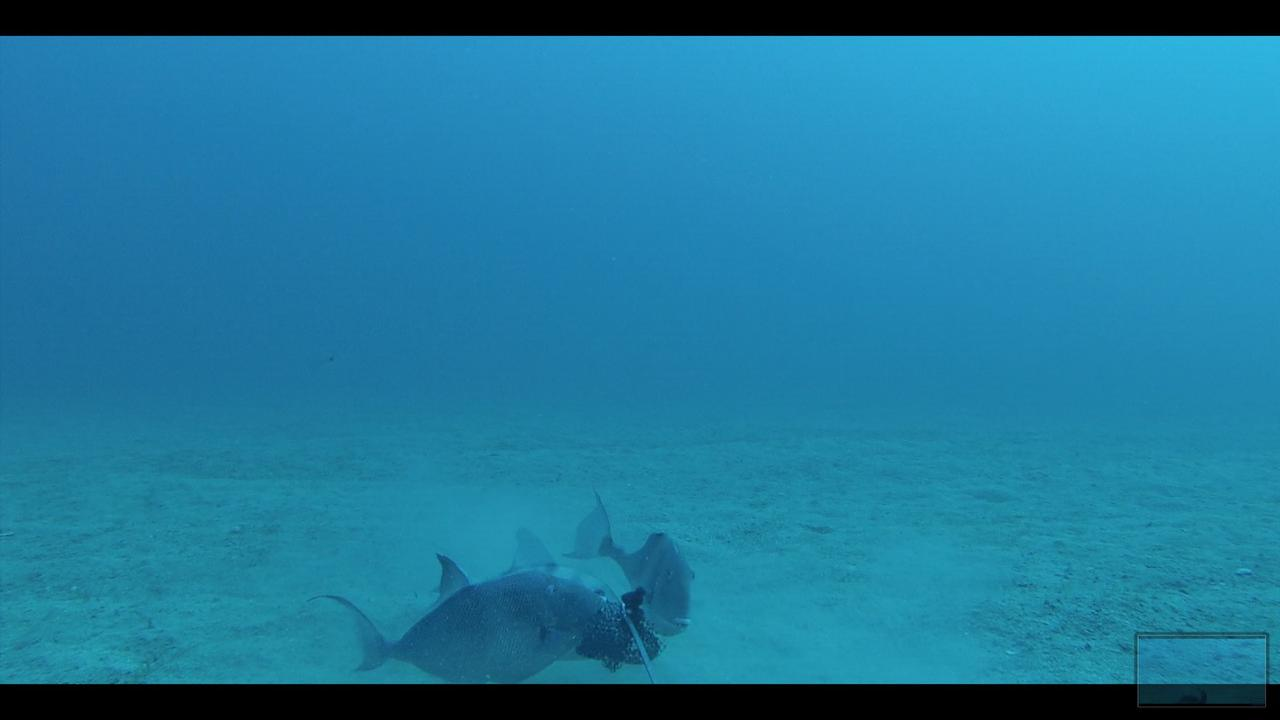balistes: (300, 549, 608, 685), (557, 479, 696, 639), (416, 524, 625, 620)
